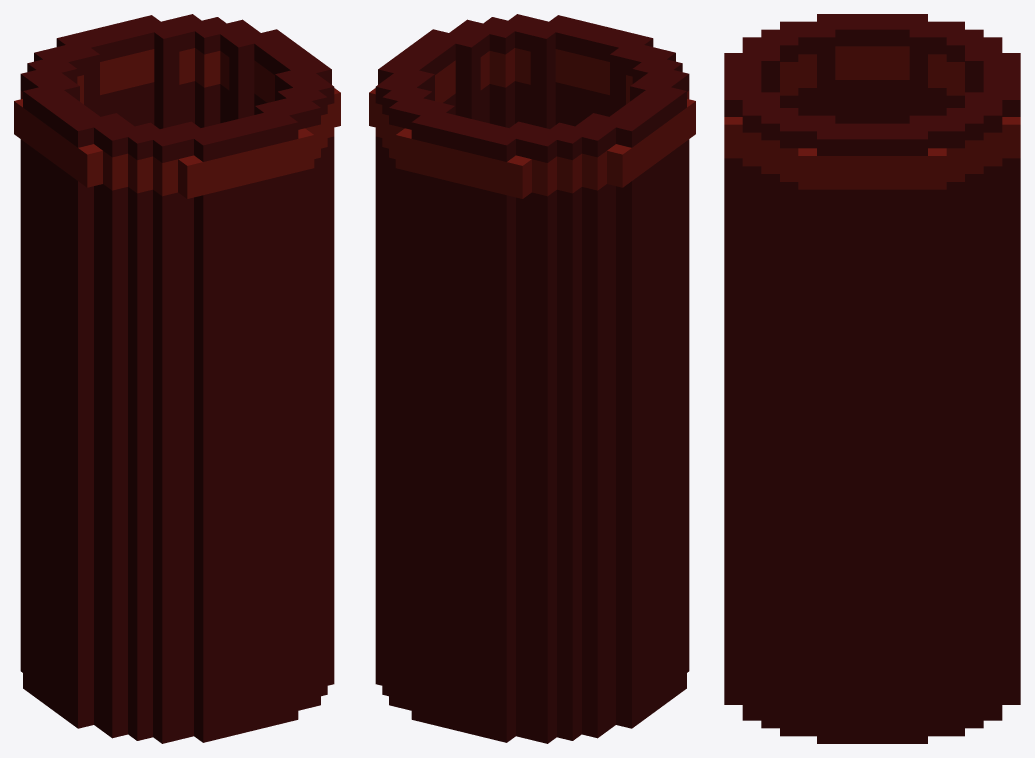
File: cloth_masterwork_leg_L.glb
3 views of the same model, side by side, from view 1: azimuth 30°, elevation 25°; view 2: azimuth 150°, elevation 25°; view 3: azimuth 270°, elevation 25° (orthographic).
Parts seen in each view (by area): view 1: cloth_masterwork_leg_L; view 2: cloth_masterwork_leg_L; view 3: cloth_masterwork_leg_L.
Boxes of the visible parts, x1,y1,x2,y2 form: cloth_masterwork_leg_L: [14, 14, 340, 743]; cloth_masterwork_leg_L: [369, 14, 695, 743]; cloth_masterwork_leg_L: [724, 14, 1020, 743].
Size of the model in its own units: 0.192 by 0.432 by 0.192.
